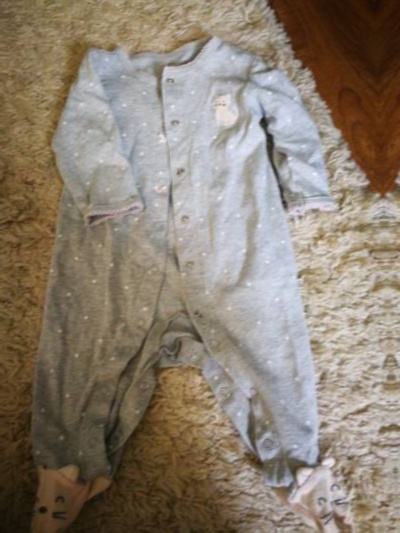Body: (0, 10, 376, 533), (397, 0, 400, 523)
